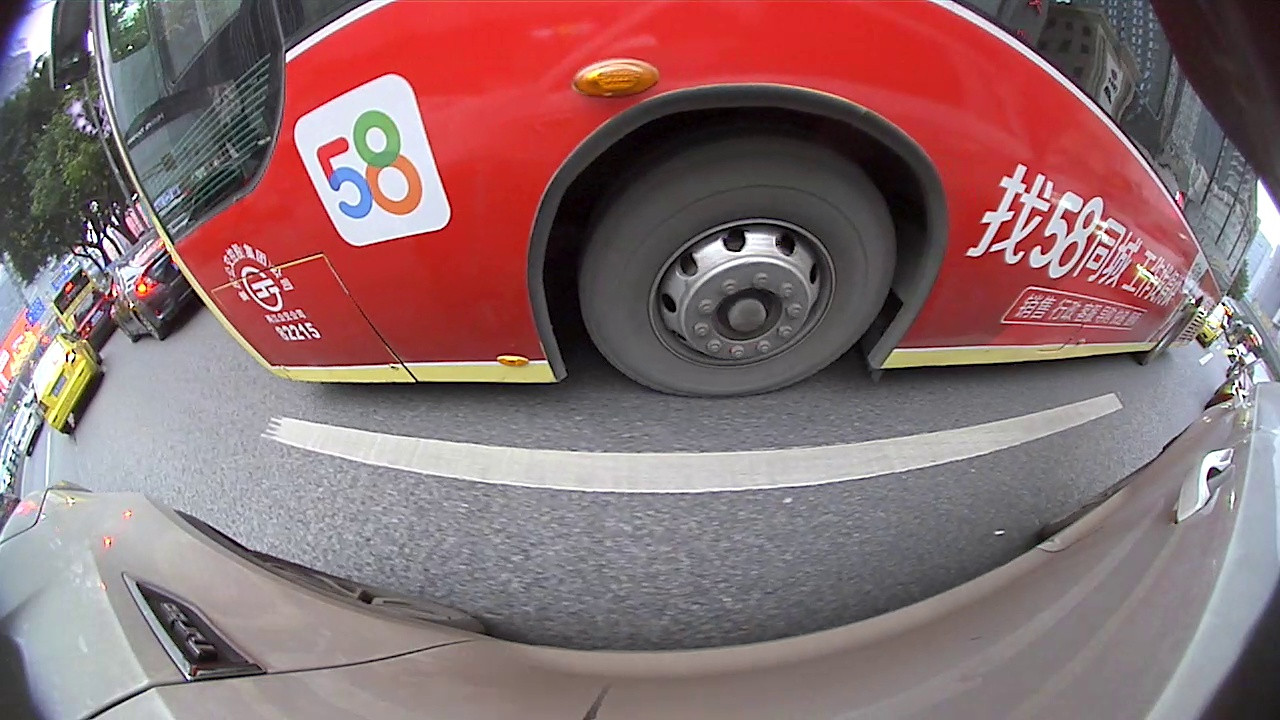bus: (583, 26, 831, 118)
car: (247, 80, 427, 189), (819, 102, 997, 208), (736, 80, 891, 143), (456, 53, 589, 110), (1120, 275, 1188, 356)
front: (628, 77, 657, 104), (872, 151, 898, 179)
rear: (338, 133, 369, 164), (953, 182, 977, 206)
